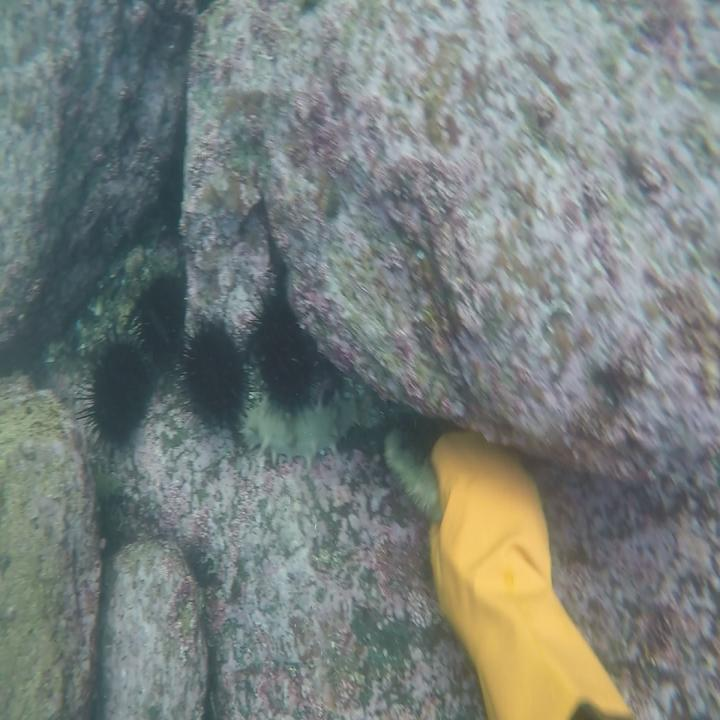echinus: (81, 336, 149, 456), (250, 286, 314, 409), (180, 323, 253, 429), (130, 264, 192, 367)
holothurian: (244, 383, 374, 462)
